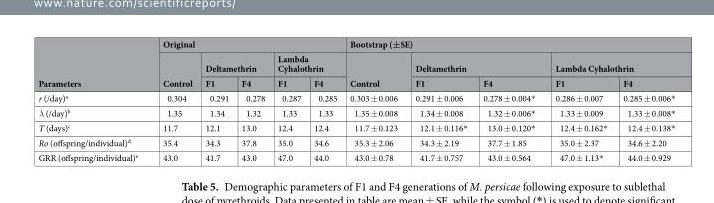table: (37, 37, 674, 164)
table column: (37, 37, 149, 164), (474, 37, 544, 164), (544, 37, 614, 164), (405, 37, 474, 164), (342, 37, 405, 164), (614, 37, 674, 164), (149, 37, 198, 164), (198, 37, 234, 164), (234, 37, 270, 164), (270, 37, 306, 164), (306, 37, 342, 164)
table column header: (37, 37, 674, 90)
table row: (37, 50, 674, 75), (37, 75, 674, 90), (37, 90, 674, 105), (37, 105, 674, 120), (37, 120, 674, 135), (37, 149, 674, 164), (37, 135, 674, 149), (37, 37, 674, 50)
table spanning cell: (37, 37, 149, 90), (342, 37, 674, 50), (405, 50, 544, 75), (544, 50, 674, 75), (342, 50, 405, 90), (149, 37, 342, 50), (149, 50, 198, 90), (198, 50, 270, 75), (270, 50, 342, 75)
